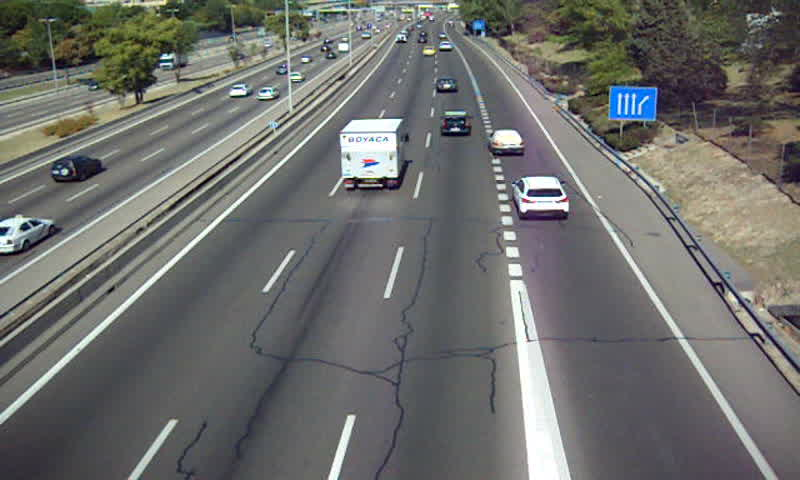car: (512, 175, 572, 220), (488, 129, 525, 155), (440, 111, 473, 134), (436, 76, 458, 93), (421, 44, 436, 56), (438, 40, 453, 50)
small-truck: (338, 118, 407, 192)
